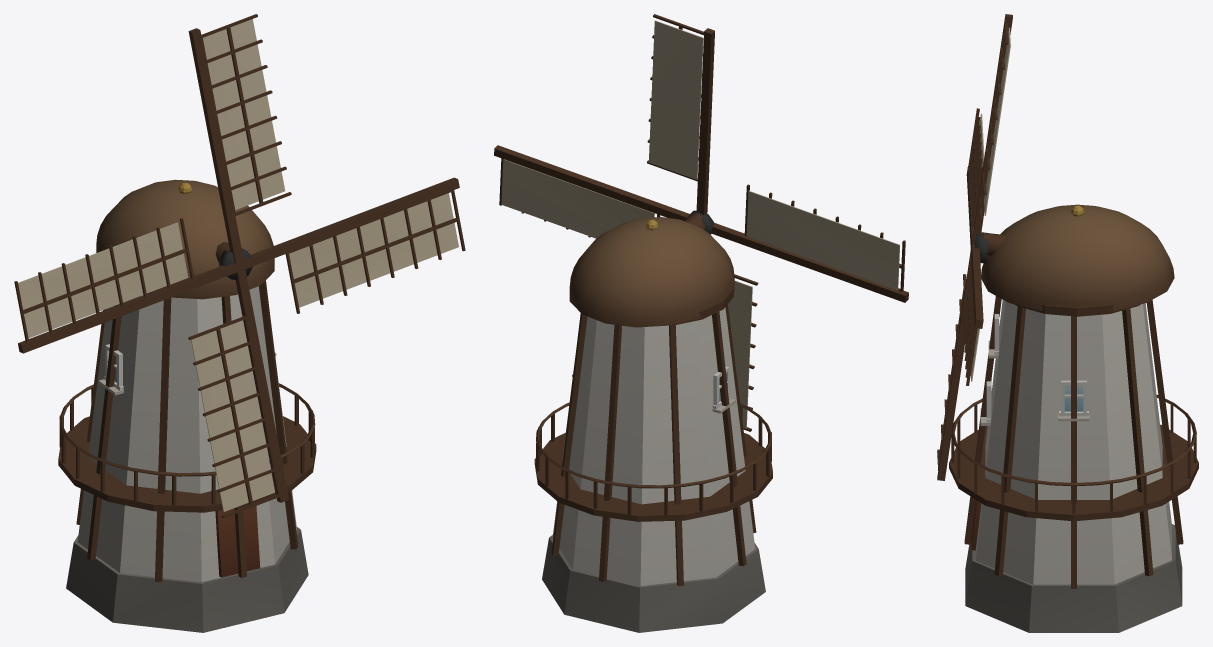
The model's file is cc_moinho.glb.
The picture shows the model from 3 angles, left to right: view 1: azimuth 30°, elevation 25°; view 2: azimuth 150°, elevation 25°; view 3: azimuth 270°, elevation 25°; orthographic projection. The views are drawn at different scales.
Parts seen in each view (by area): view 1: cc_moinho_lab_parede, cc_moinho_lab_madeira, cc_moinho_lab_pedra, cc_moinho_lab_telhado; view 2: cc_moinho_lab_parede, cc_moinho_lab_madeira, cc_moinho_lab_telhado, cc_moinho_lab_pedra; view 3: cc_moinho_lab_parede, cc_moinho_lab_madeira, cc_moinho_lab_telhado, cc_moinho_lab_pedra, cc_moinho_lab_metal, cc_moinho_lab_vidro.
Part boxes in pixels (x1=…): cc_moinho_lab_parede: x1=18, y1=19, x2=458, y2=582; cc_moinho_lab_madeira: x1=14, y1=14, x2=465, y2=582; cc_moinho_lab_pedra: x1=66, y1=527, x2=308, y2=632; cc_moinho_lab_telhado: x1=96, y1=179, x2=274, y2=299; cc_moinho_lab_parede: x1=501, y1=20, x2=899, y2=586; cc_moinho_lab_madeira: x1=494, y1=14, x2=908, y2=586; cc_moinho_lab_telhado: x1=569, y1=217, x2=734, y2=327; cc_moinho_lab_pedra: x1=542, y1=535, x2=765, y2=632; cc_moinho_lab_parede: x1=970, y1=27, x2=1171, y2=584; cc_moinho_lab_madeira: x1=937, y1=14, x2=1198, y2=588; cc_moinho_lab_telhado: x1=981, y1=204, x2=1174, y2=310; cc_moinho_lab_pedra: x1=965, y1=524, x2=1182, y2=632; cc_moinho_lab_metal: x1=975, y1=205, x2=1084, y2=263; cc_moinho_lab_vidro: x1=991, y1=317, x2=1083, y2=412.
Bounding box in the file's own units: 13.2 × 16.6 × 7.02.
